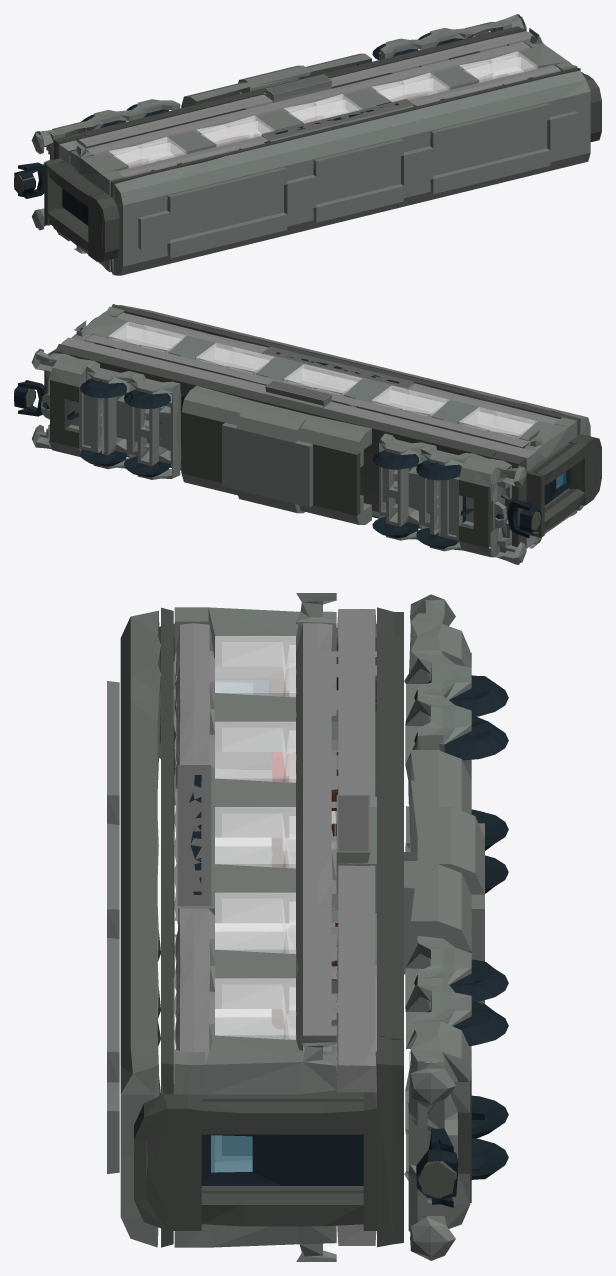
File: observation-car.glb
3 renders of one model, top to bottom at view 1: azimuth 30°, elevation 25°; view 2: azimuth 150°, elevation 25°; view 3: azimuth 270°, elevation 25°, orthographic. The views are drawn at different scales.
Bounding box in the file's own units: 283 × 59.24 × 95.22.
